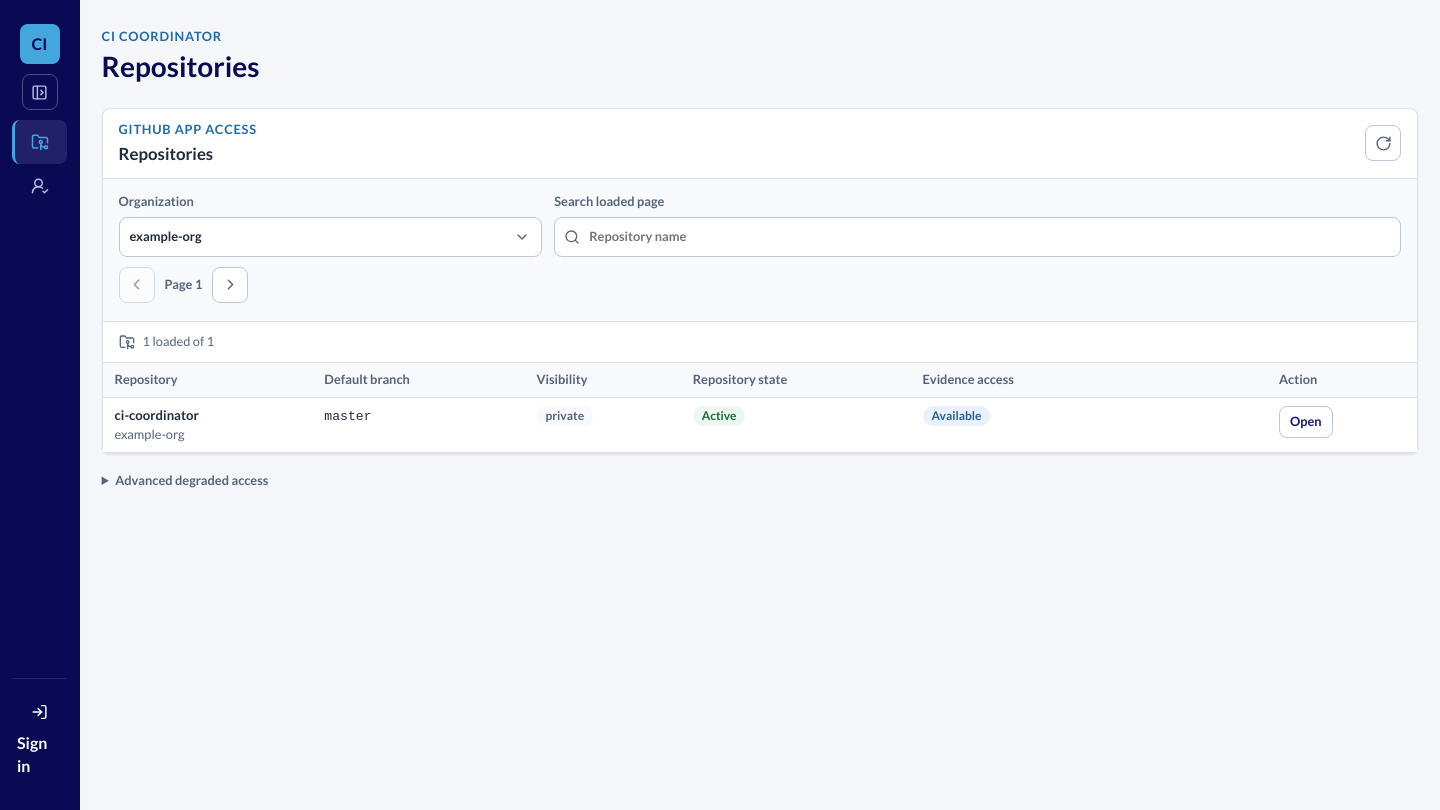
Scenario: paginates organizations without carrying repository authority across pages
The width and height of the screenshot is (1440, 810).
Expected: the text "ci-coordinator" is shown, [115,407,199,423]
Click the button named "Next organization page" at x=230, y=285, box [212,267,248,303]
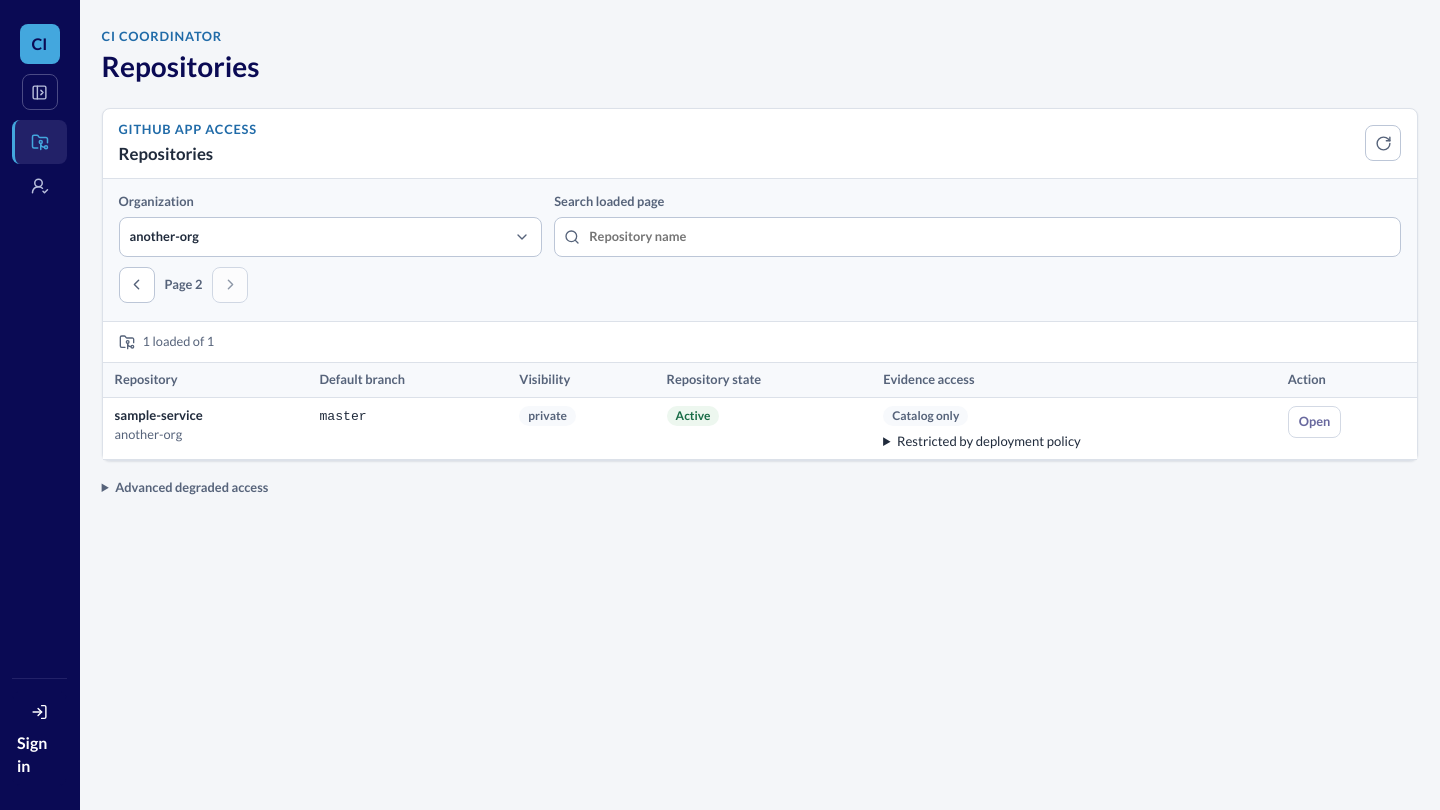
Expected: the text "sample-service" is shown, [115,407,203,423]
Expected: the text "ci-coordinator" is gone
Expected: the button "Open" is disabled, [1288,406,1341,438]
Click the heading "Restricted by deployment policy" at x=989, y=441, box [897,433,1081,449]
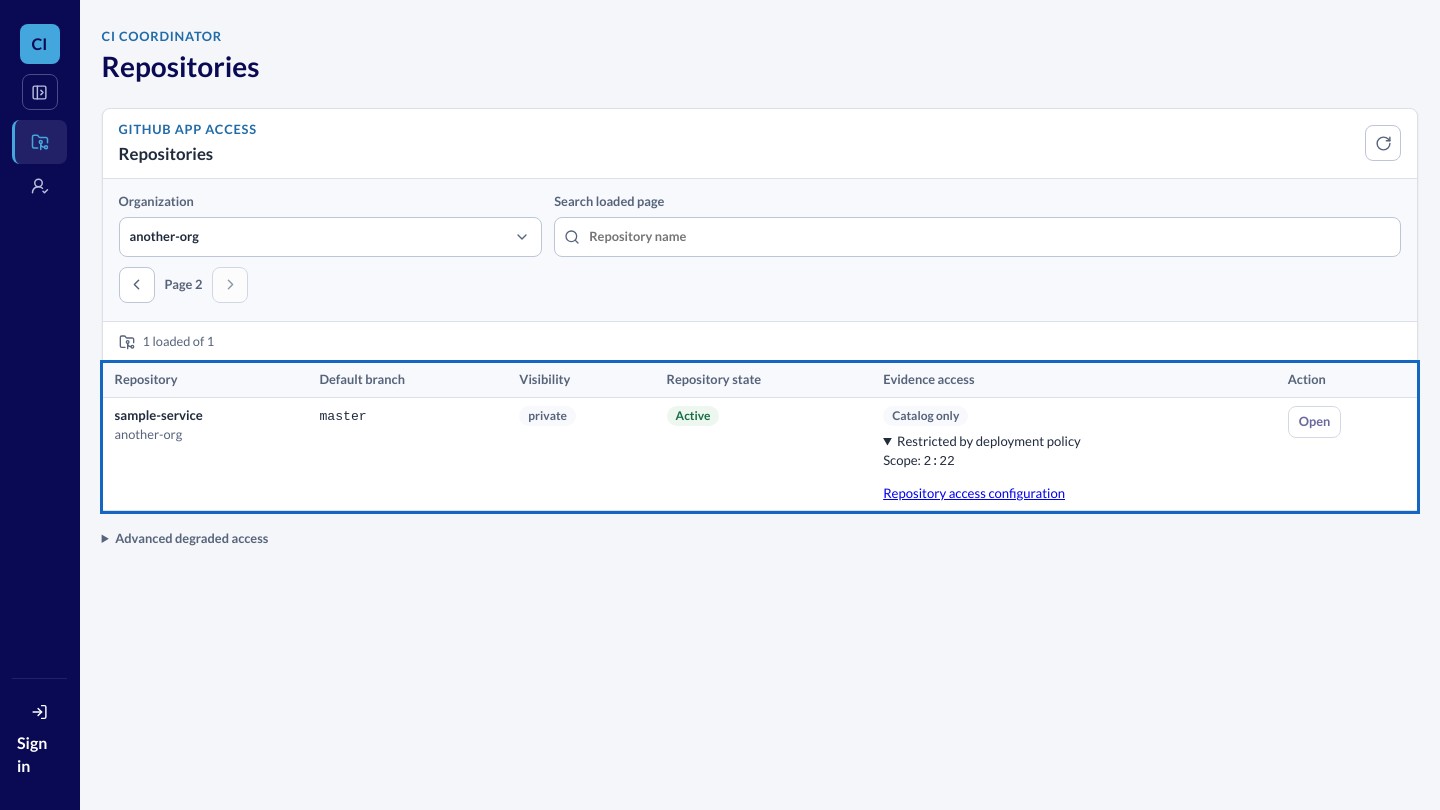
Expected: the button named "Next organization page" is disabled, [212,267,248,303]
Expected: the text "2:22" is shown, [923,454,955,468]
Click the button named "Previous organization page" at x=137, y=285, box [119,267,155,303]
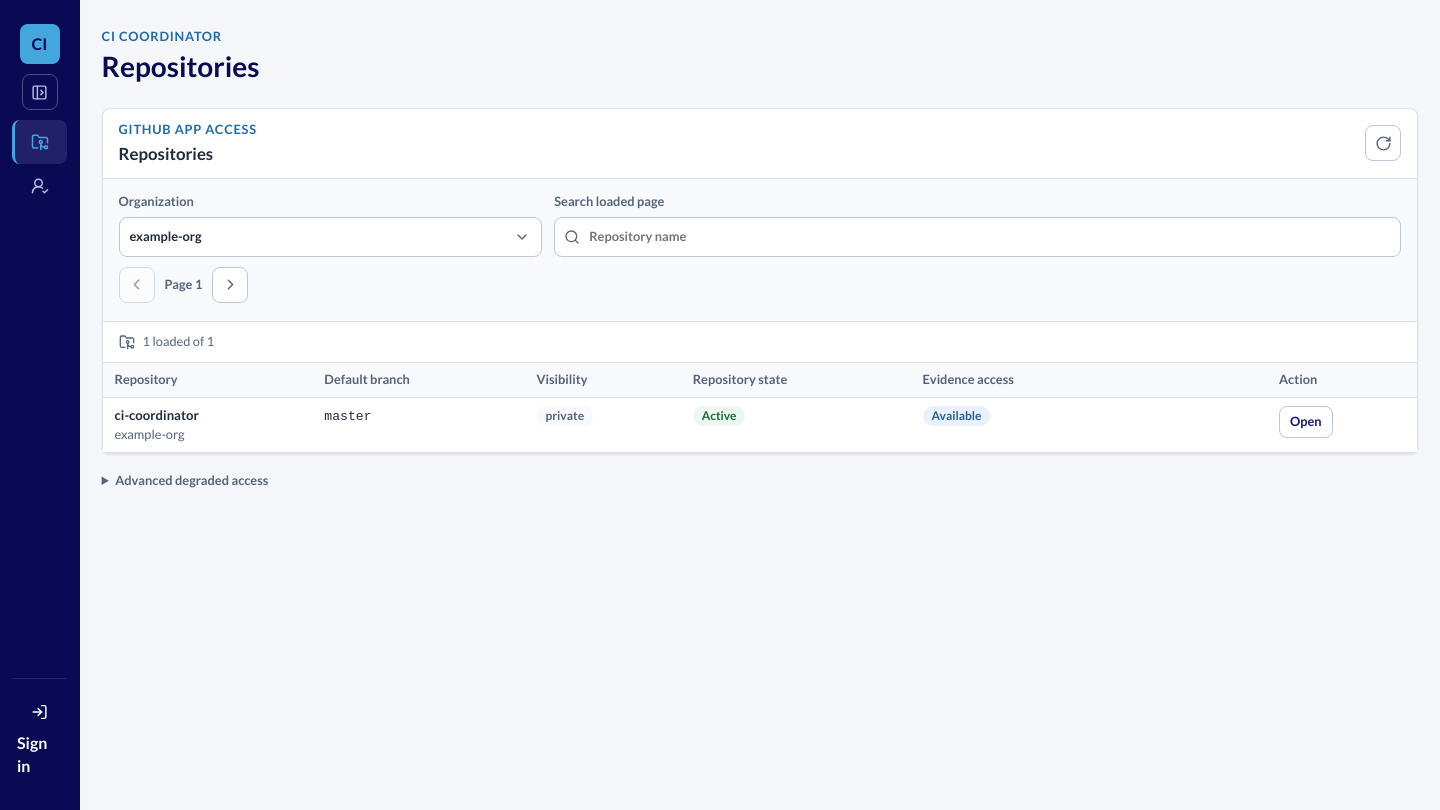
Expected: the text "ci-coordinator" is shown, [115,407,199,423]
